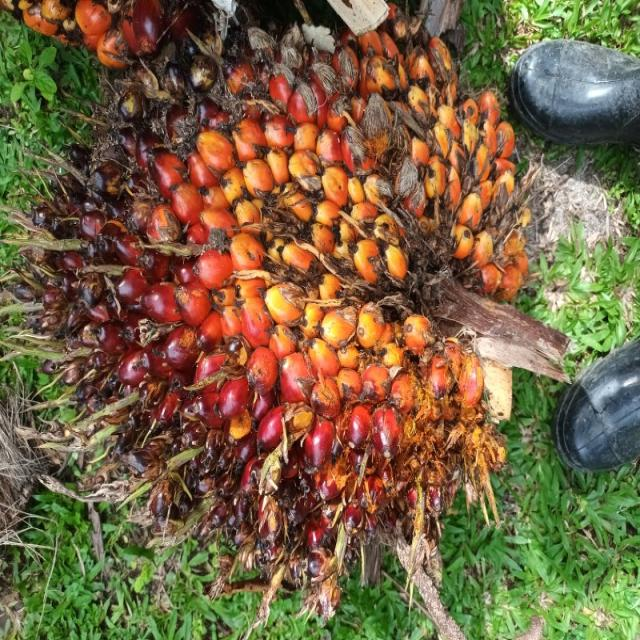fraksi 1: (39, 0, 478, 640)
